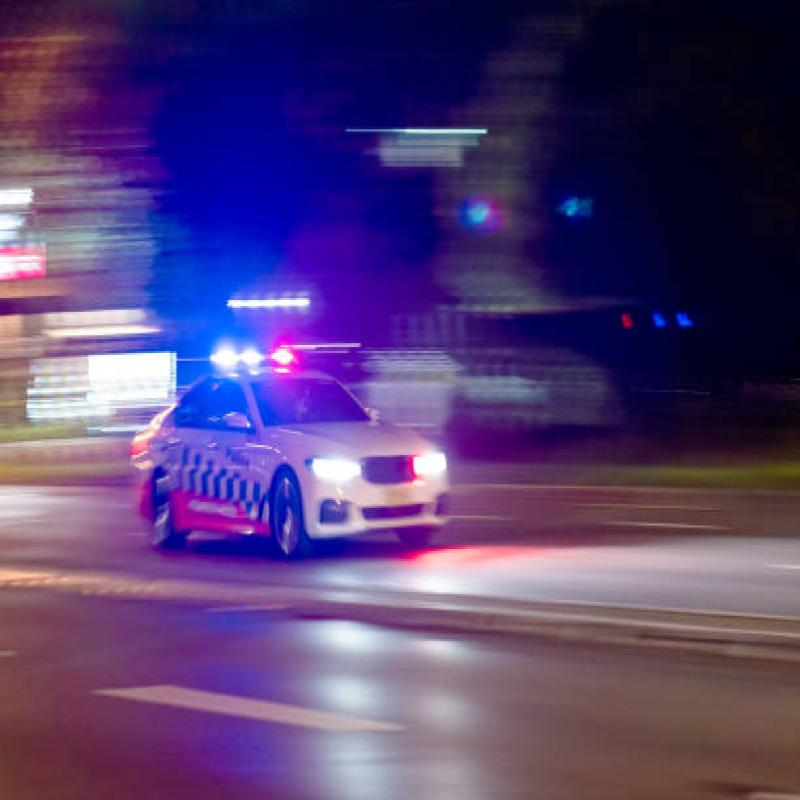AmbulanceSiren: (191, 322, 308, 381)
